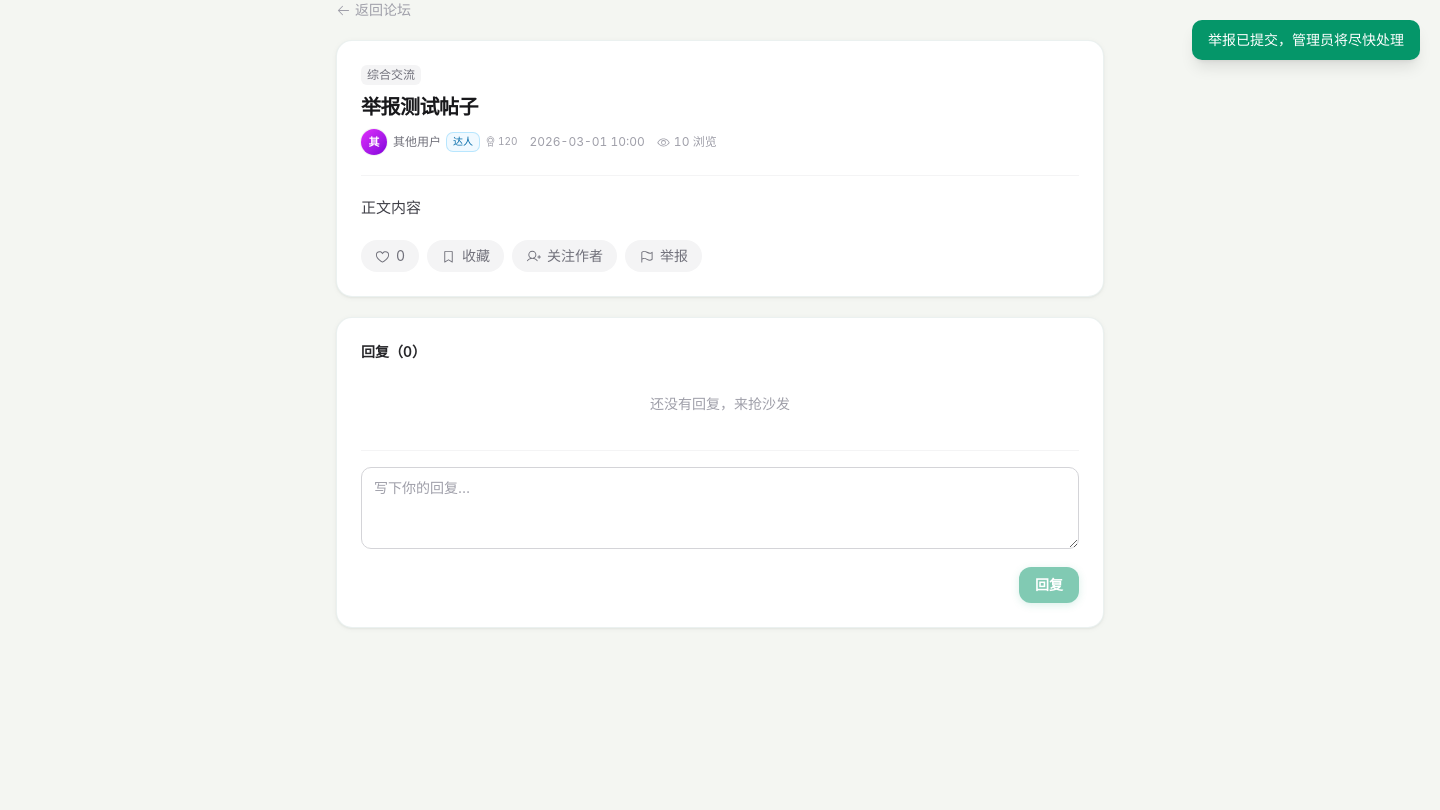
ReportButton (从 ForumPostPage 拆出) › 点击取消关闭弹窗
Step 1. Click the button "举报" → (664, 256), box 625,240 -> 702,272
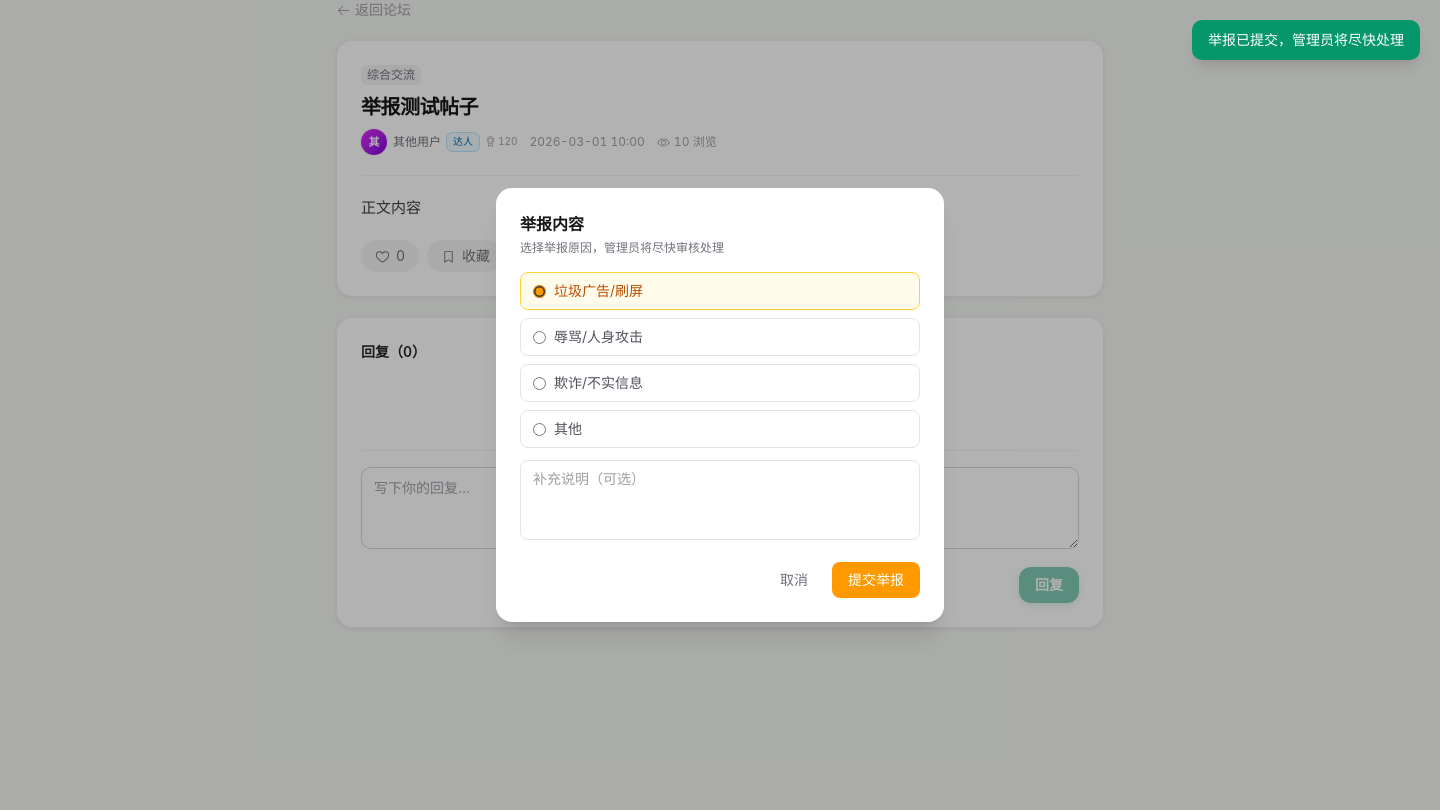
Check: the heading "举报内容" is shown, box 520,214 -> 584,234
Step 2. Click the button "取消" → (794, 580), box 764,562 -> 824,598
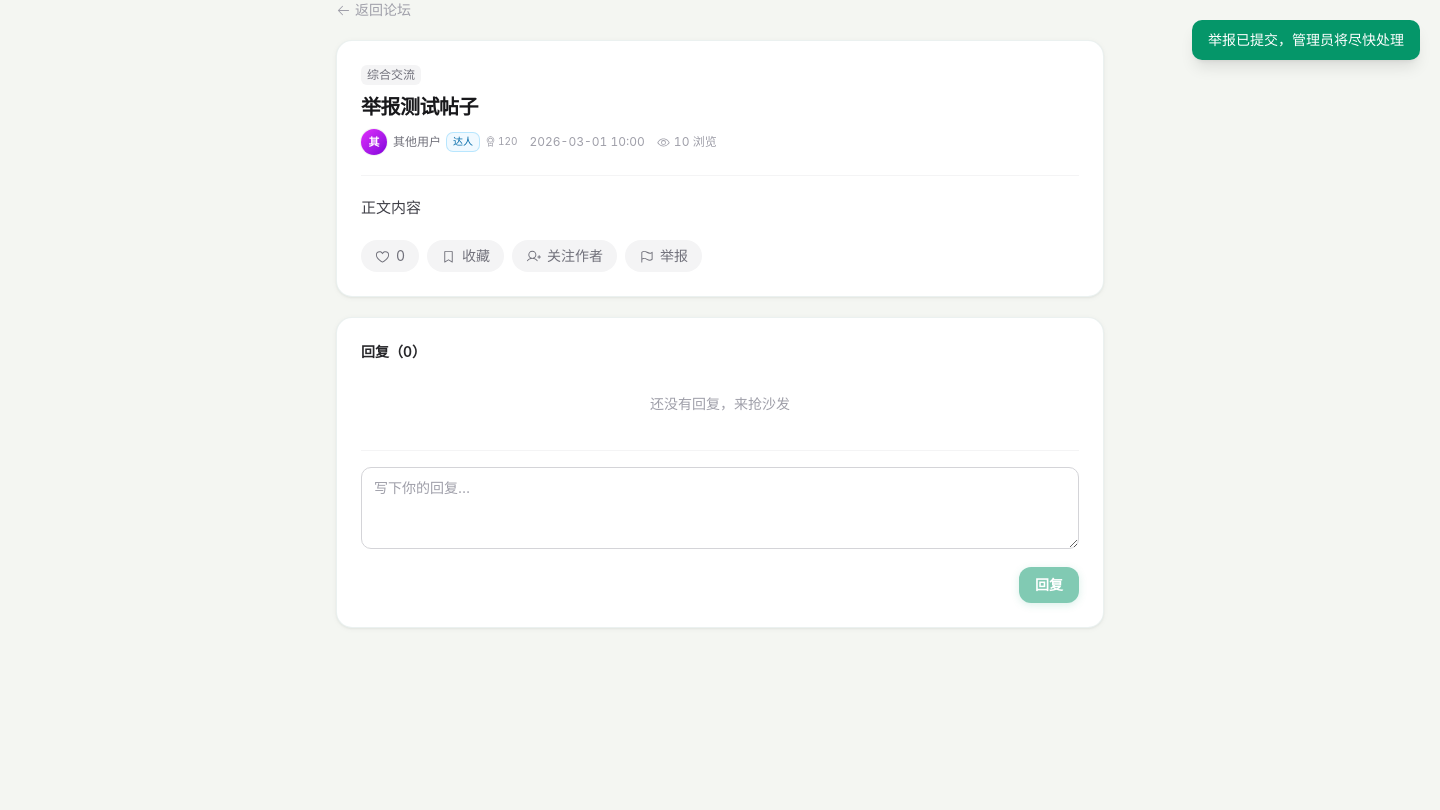
Check: the heading "举报内容" is gone
